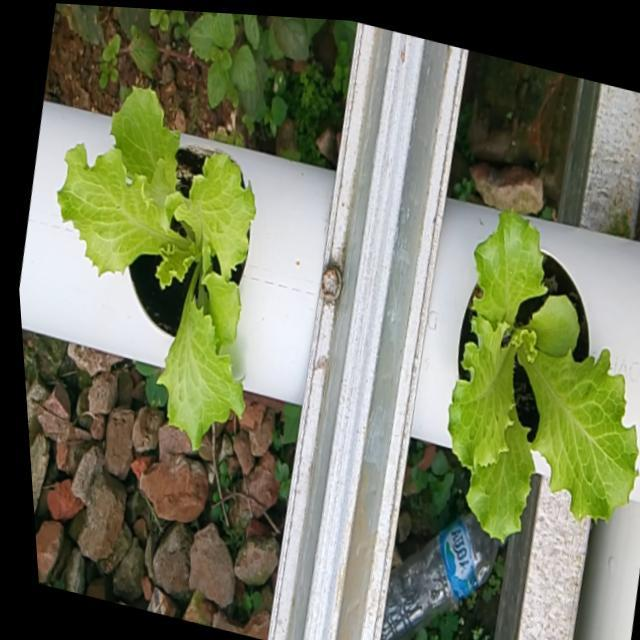Baby: (55, 85, 254, 449), (446, 204, 638, 541)
